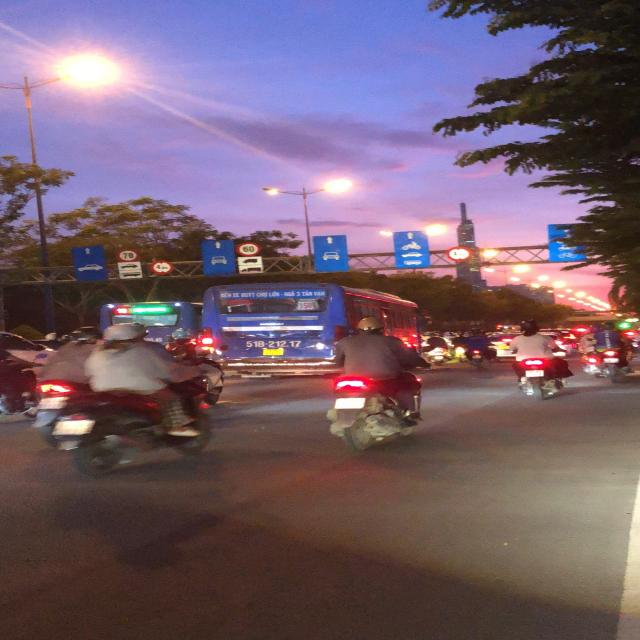Bien bao han che chieu cao: (151, 259, 173, 276)
Bien bao toc do toi da cho phep: (234, 240, 263, 256), (115, 248, 140, 263)
